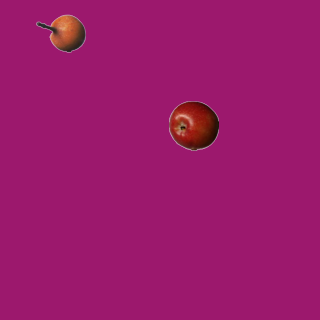Apple Braeburn: (168, 100, 218, 150)
Granadilla: (35, 8, 85, 58)
